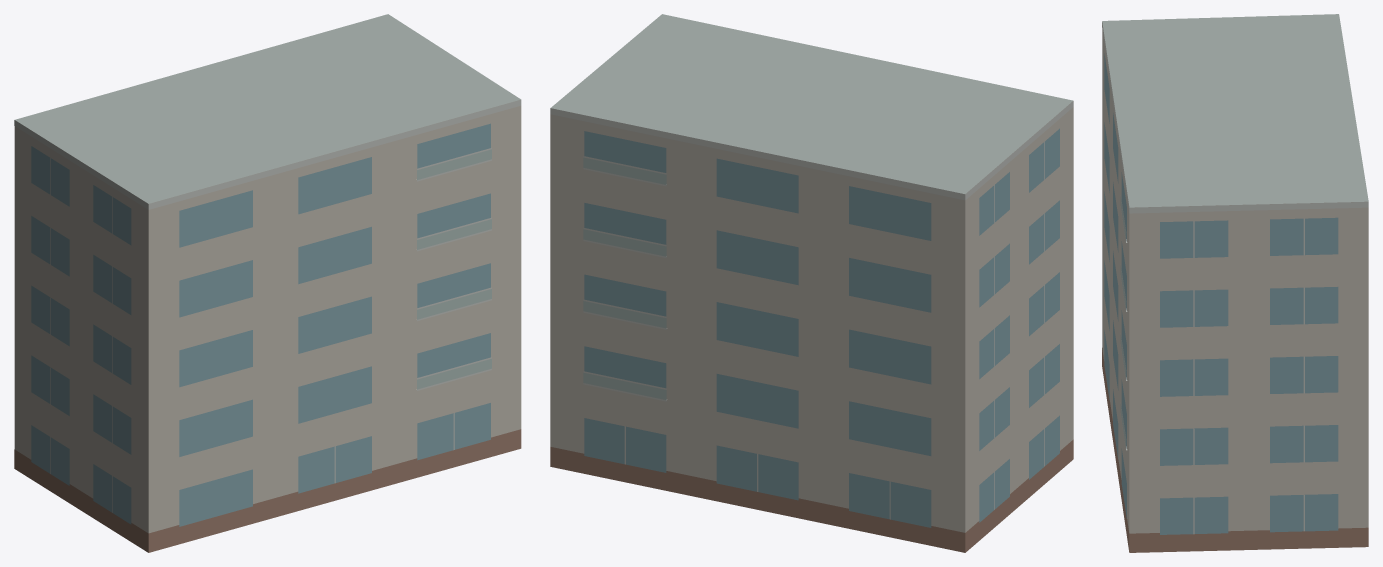
The model's file is survey-upis-32941487.glb.
3 renders of one model, left to right at view 1: azimuth 30°, elevation 25°; view 2: azimuth 150°, elevation 25°; view 3: azimuth 270°, elevation 25°, orthographic. The views are drawn at different scales.
Visible parts, largest first — view 1: survey-upis-32941487.tmp; view 2: survey-upis-32941487.tmp; view 3: survey-upis-32941487.tmp.
Boxes of the visible parts, x1,y1,x2,y2 form: survey-upis-32941487.tmp: [14, 14, 521, 552]; survey-upis-32941487.tmp: [550, 14, 1073, 552]; survey-upis-32941487.tmp: [1102, 14, 1368, 552].
Size of the model in its own units: 16.96 by 14.1 by 9.88.
